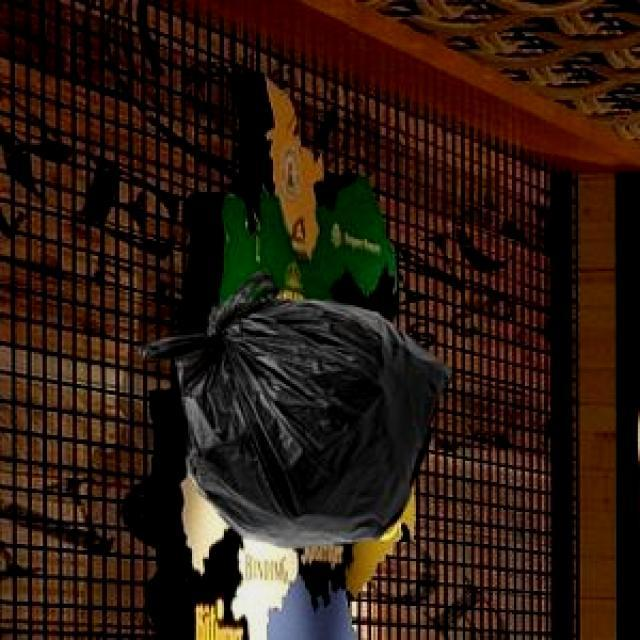Trashbag: (132, 263, 454, 548)
